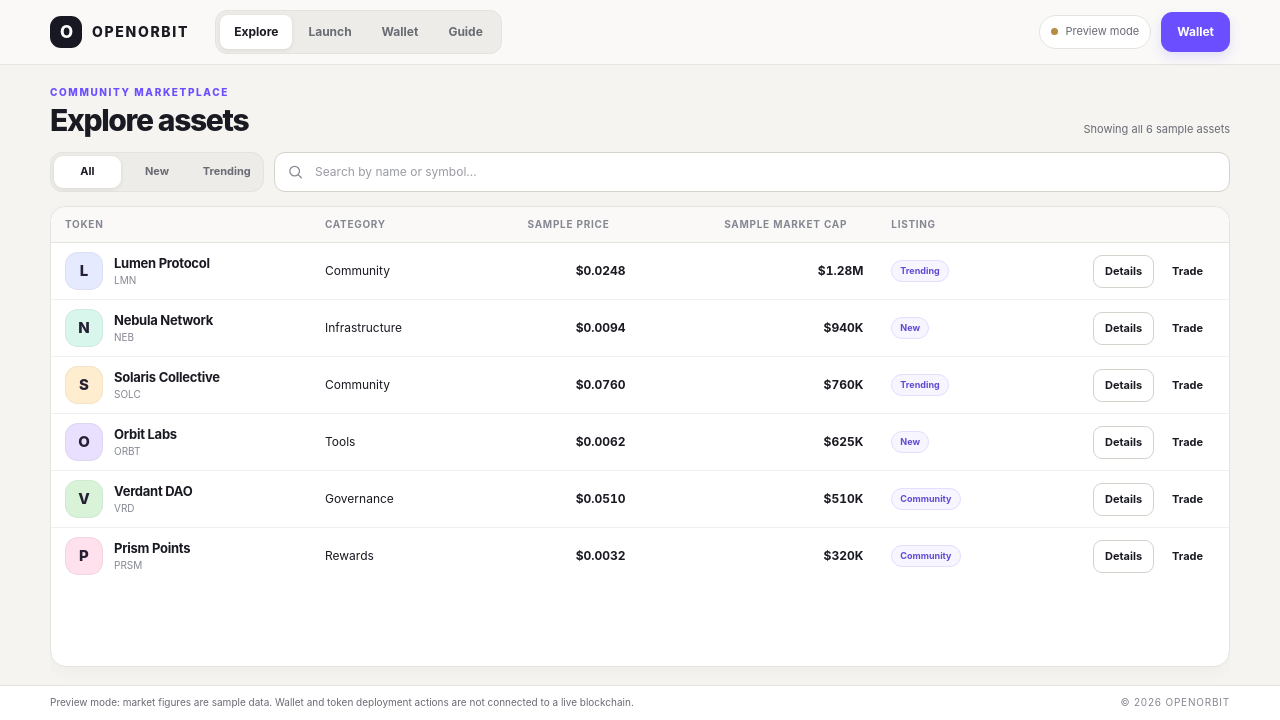
it: catalog search feedback › shows a sample result count and clears the search
This screenshot has width=1280, height=720.
Type "Nebula" into the field named "Search assets" at x=752, y=172, box top-left (274, 152), bottom-right (1230, 192)
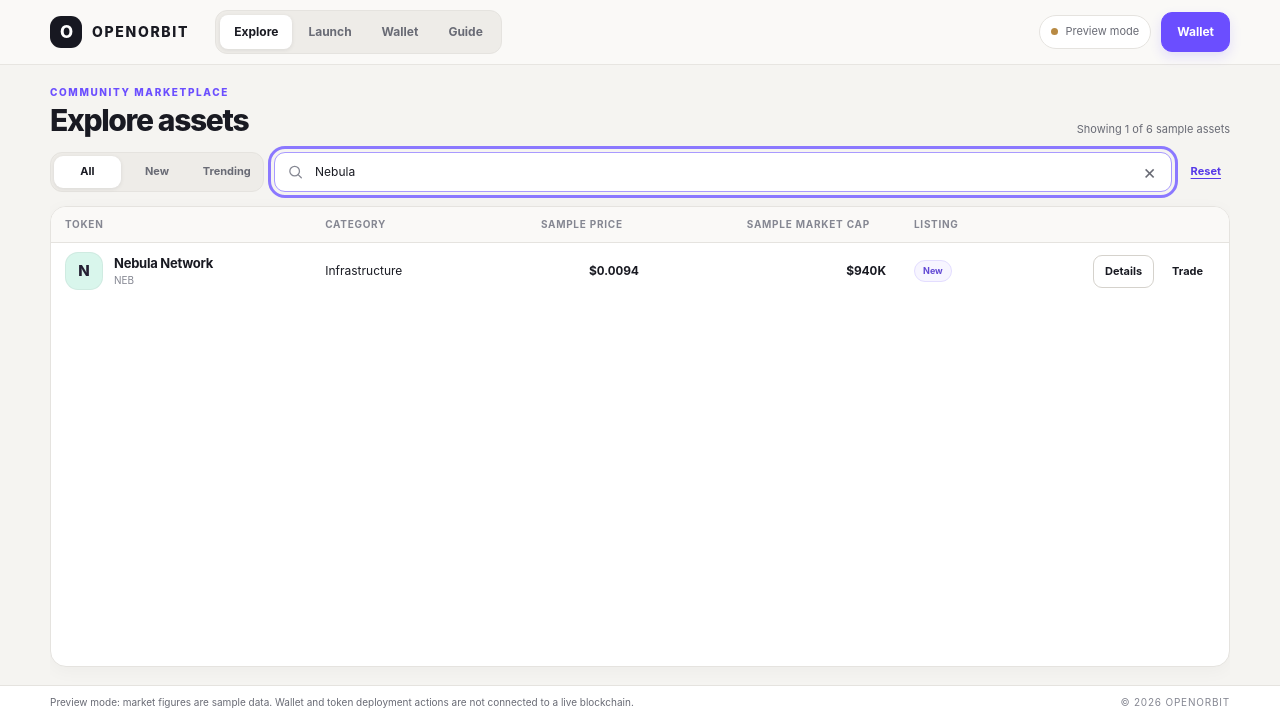
Result: the text "Showing 1 of 6 sample assets" is shown at top-left (1077, 120), bottom-right (1230, 138)
Click the button named "Clear search" at x=1150, y=172, box top-left (1135, 157), bottom-right (1165, 187)
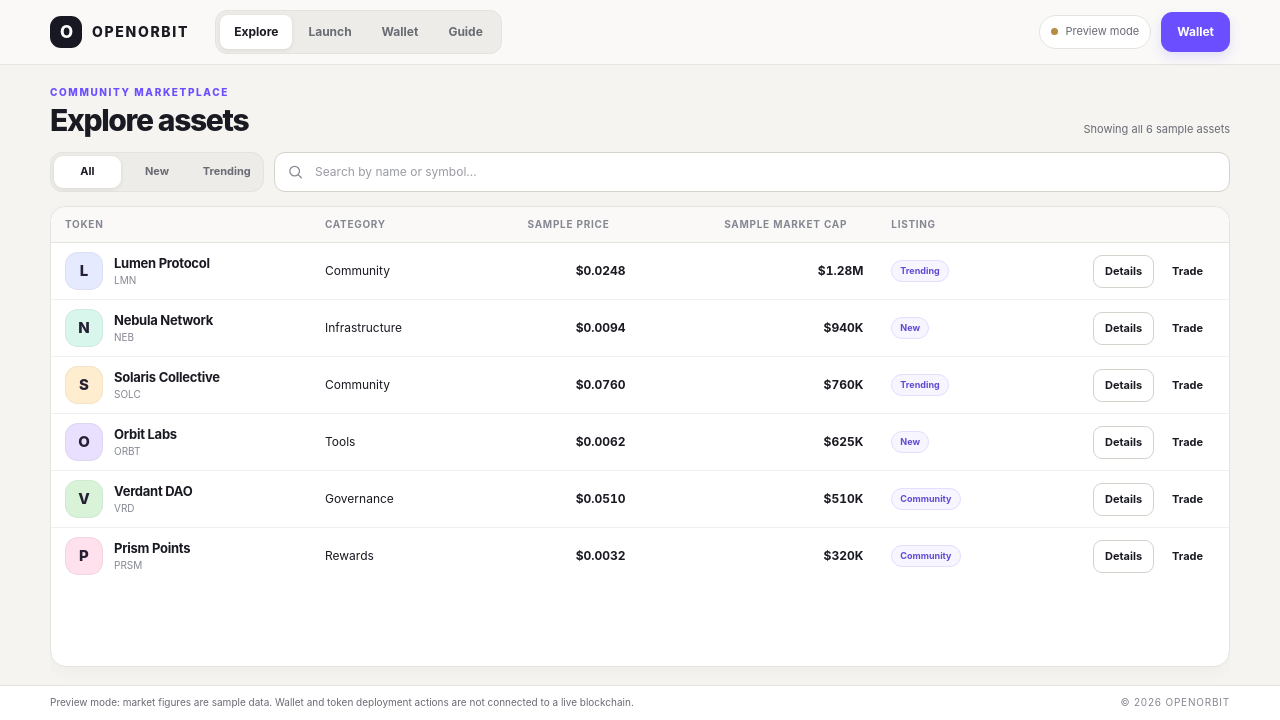
Result: the field named "Search assets" is empty at top-left (274, 152), bottom-right (1230, 192)
Result: the text "Showing all 6 sample assets" is shown at top-left (1084, 120), bottom-right (1230, 138)
